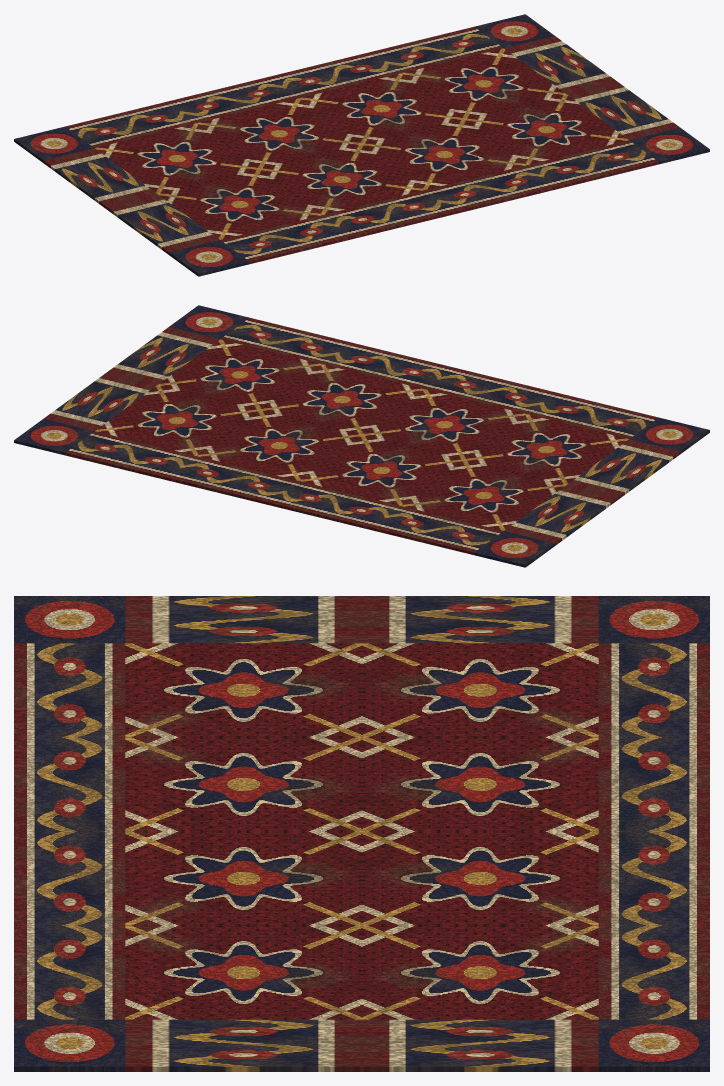
The model's file is Rug_OrientalSmall.fbx.
3 views of the same model, one above another, from view 1: azimuth 30°, elevation 25°; view 2: azimuth 150°, elevation 25°; view 3: azimuth 270°, elevation 25° (orthographic). The views are drawn at different scales.
Visible parts, largest first — view 1: Rug_OrientalSmall; view 2: Rug_OrientalSmall; view 3: Rug_OrientalSmall.
Part boxes in pixels (x1,y1,x2,y2): Rug_OrientalSmall: (14,14,709,276); Rug_OrientalSmall: (14,305,709,567); Rug_OrientalSmall: (14,596,709,1071).
Bounding box in the file's own units: 1.6 × 0.008 × 1.
